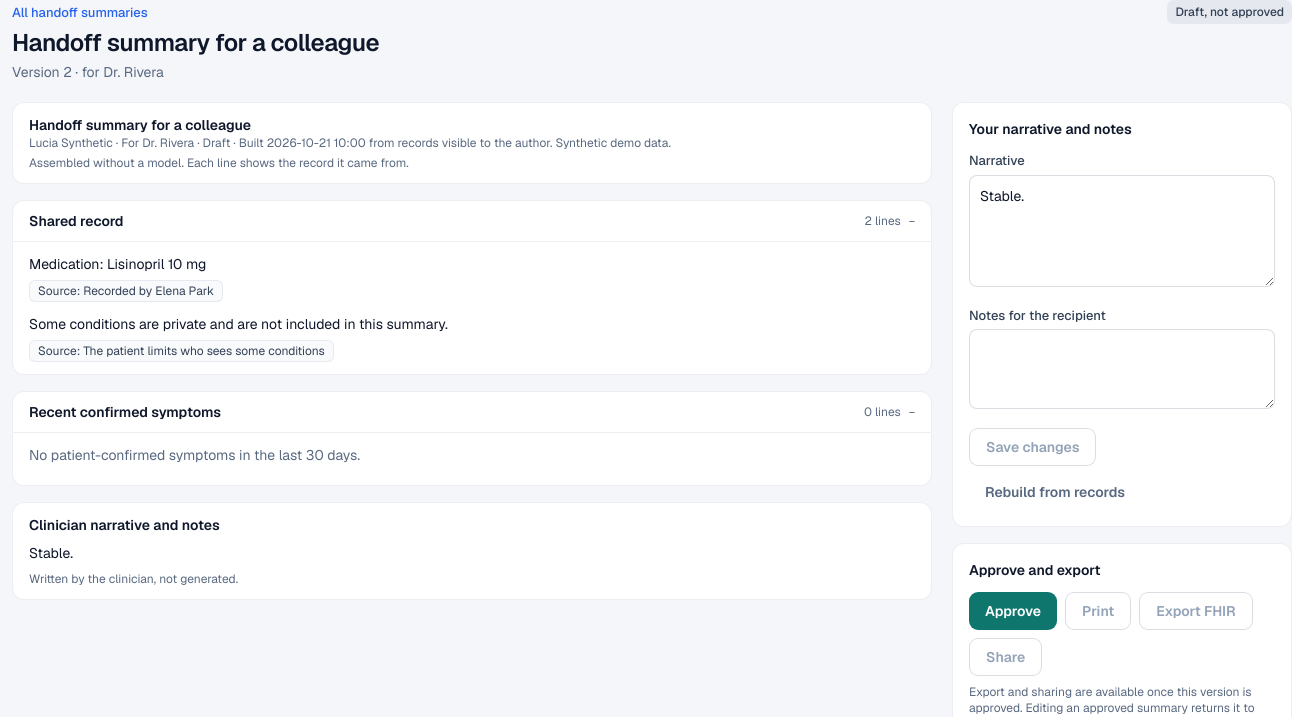
Scenario: HandoffSummaryReview › collapses and expands a section
Click the button "Shared record 2 lines −" at (76, 221), box [13,201,931,241]
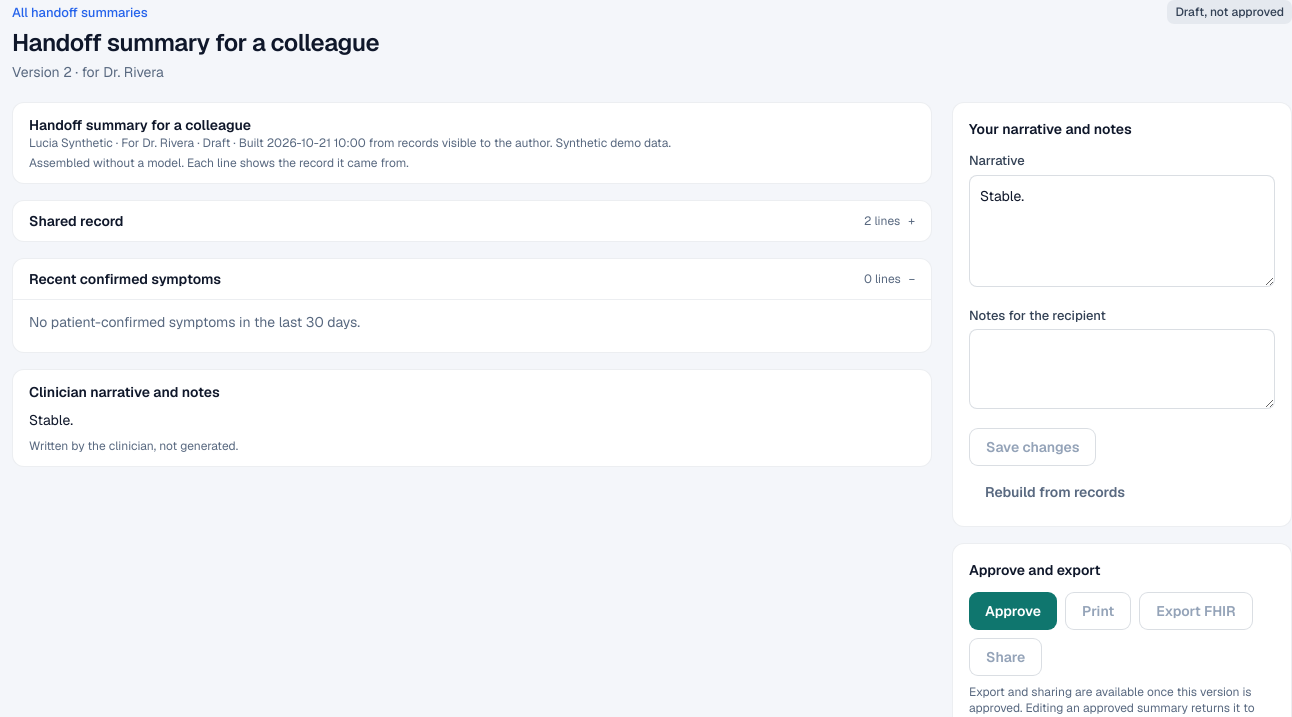
Expected: the button "Shared record 2 lines +" is collapsed, [13,201,931,241]
